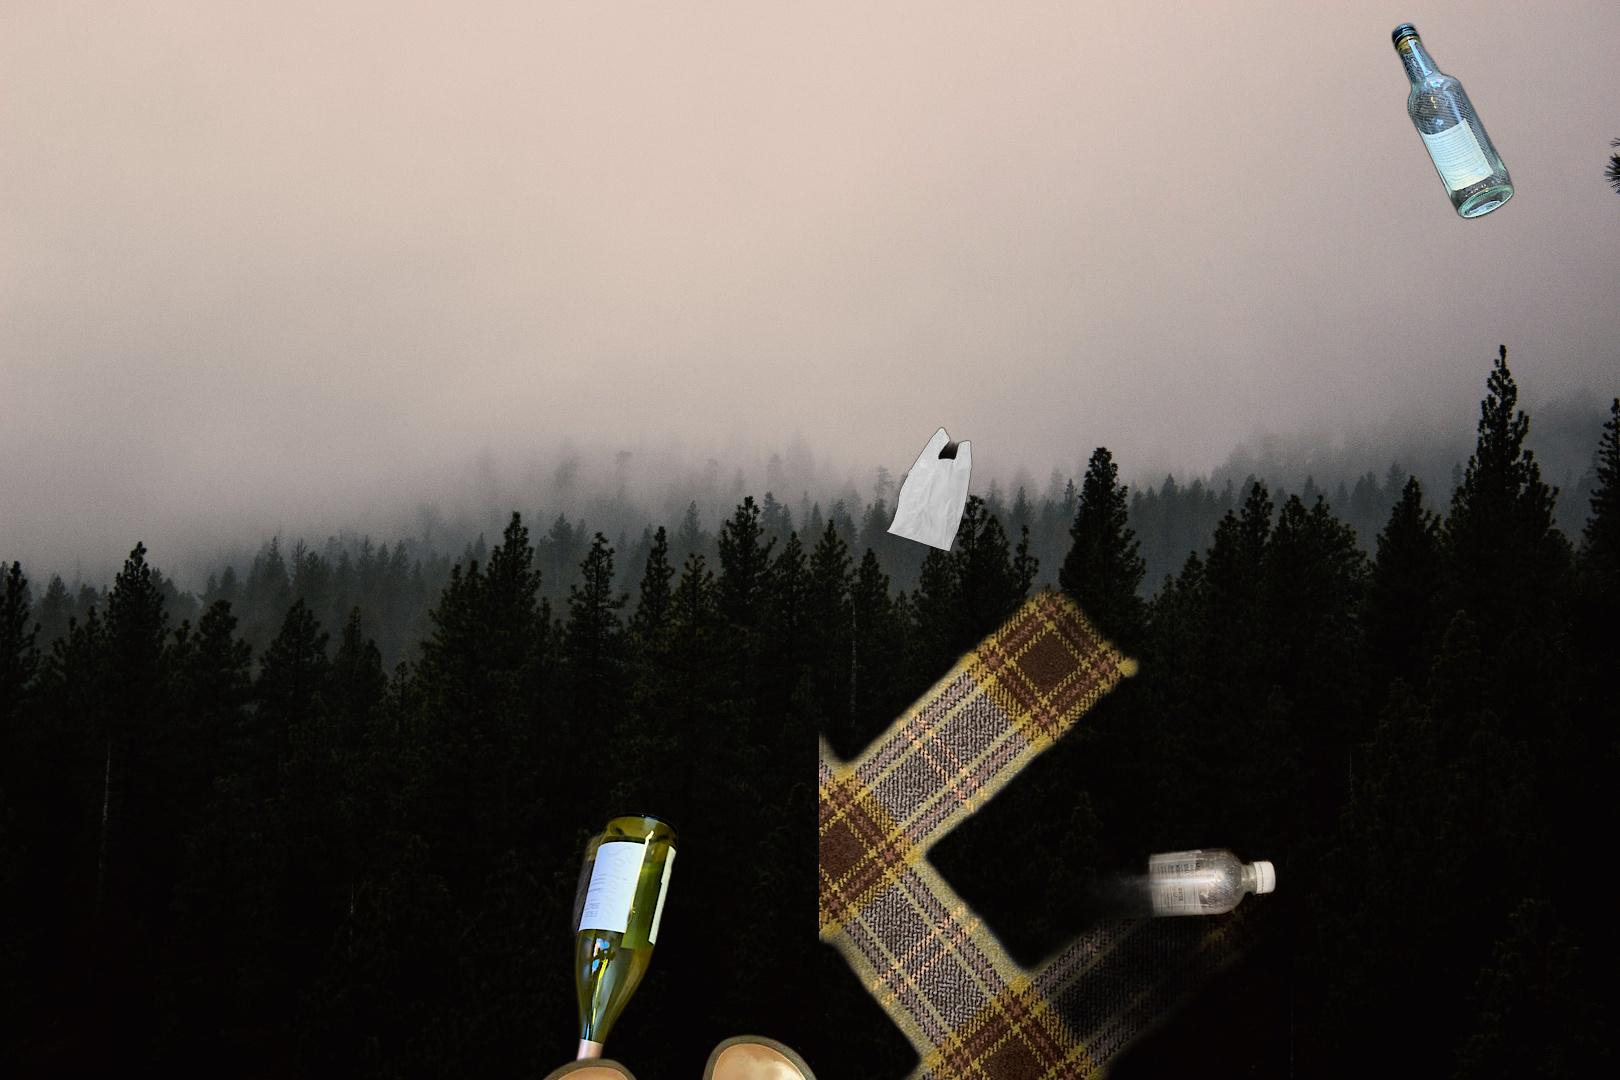battery: (297, 1078, 381, 1080)
glass: (558, 806, 682, 1080), (1387, 17, 1519, 225)
plastic-bag: (884, 425, 975, 554)
plastic-bottles: (818, 523, 1331, 1080)
shoes: (500, 1031, 839, 1080)
trashbox-cardboard: (787, 1075, 1258, 1080)
